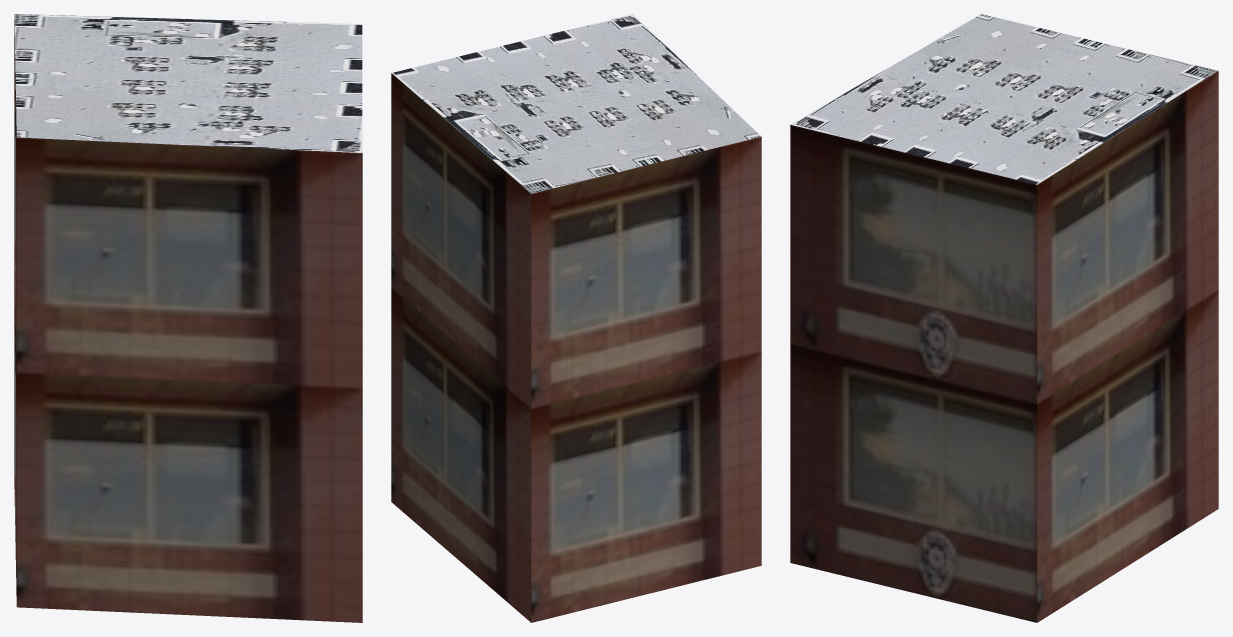
The model's file is ResTex__605.fbx.
3 renders of one model, left to right at view 1: azimuth 30°, elevation 25°; view 2: azimuth 150°, elevation 25°; view 3: azimuth 270°, elevation 25°, orthographic. The views are drawn at different scales.
Parts seen in each view (by area): view 1: CityEngineMaterial_13_m, CityEngineMaterial_4_m; view 2: CityEngineMaterial_13_m, CityEngineMaterial_4_m; view 3: CityEngineMaterial_13_m, CityEngineMaterial_4_m.
Boxes of the visible parts, x1,y1,x2,y2 form: CityEngineMaterial_13_m: (14,19,362,622); CityEngineMaterial_4_m: (14,14,362,152); CityEngineMaterial_13_m: (391,73,761,622); CityEngineMaterial_4_m: (392,14,760,193); CityEngineMaterial_13_m: (790,71,1218,622); CityEngineMaterial_4_m: (791,14,1218,184).
Size of the model in its own units: 5.02 by 6 by 5.31.
2 materials, 2 textured.
